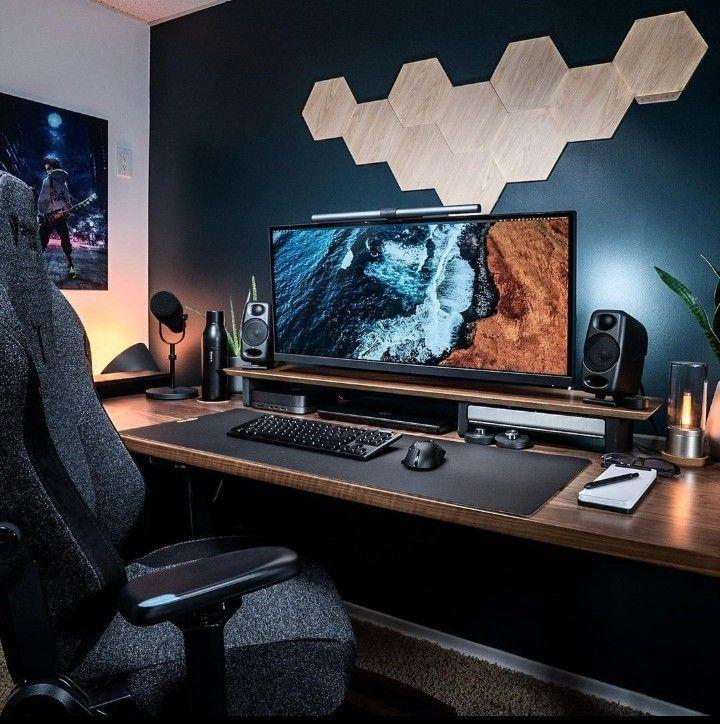keyboard: (219, 403, 407, 472)
mic: (141, 288, 198, 360)
monitor: (261, 206, 587, 399)
mouse: (398, 429, 455, 480)
speaker: (579, 303, 650, 402), (239, 297, 282, 370)
